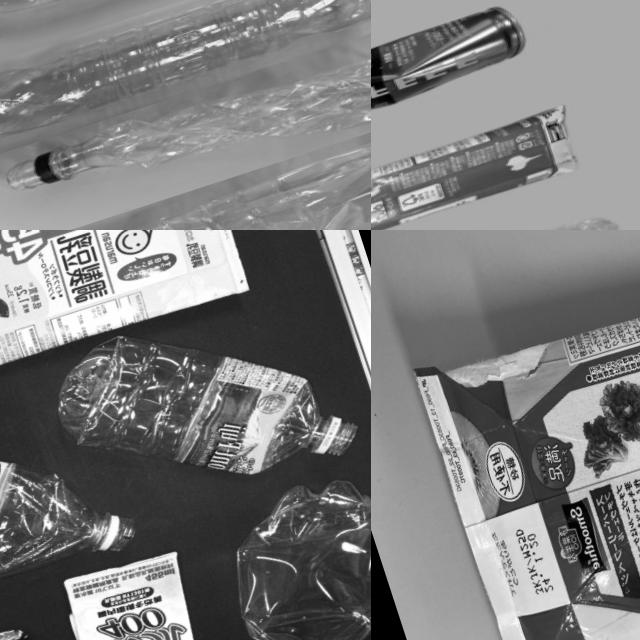Aluminium Foil: (400, 230, 640, 640), (0, 230, 240, 416), (371, 98, 588, 230), (49, 541, 228, 640)
Can: (371, 0, 531, 144)
Transparent Plastic Bottle: (41, 280, 354, 534), (0, 23, 371, 230), (0, 0, 371, 178), (0, 115, 371, 230), (0, 396, 143, 633), (212, 460, 371, 640), (0, 0, 371, 65)
